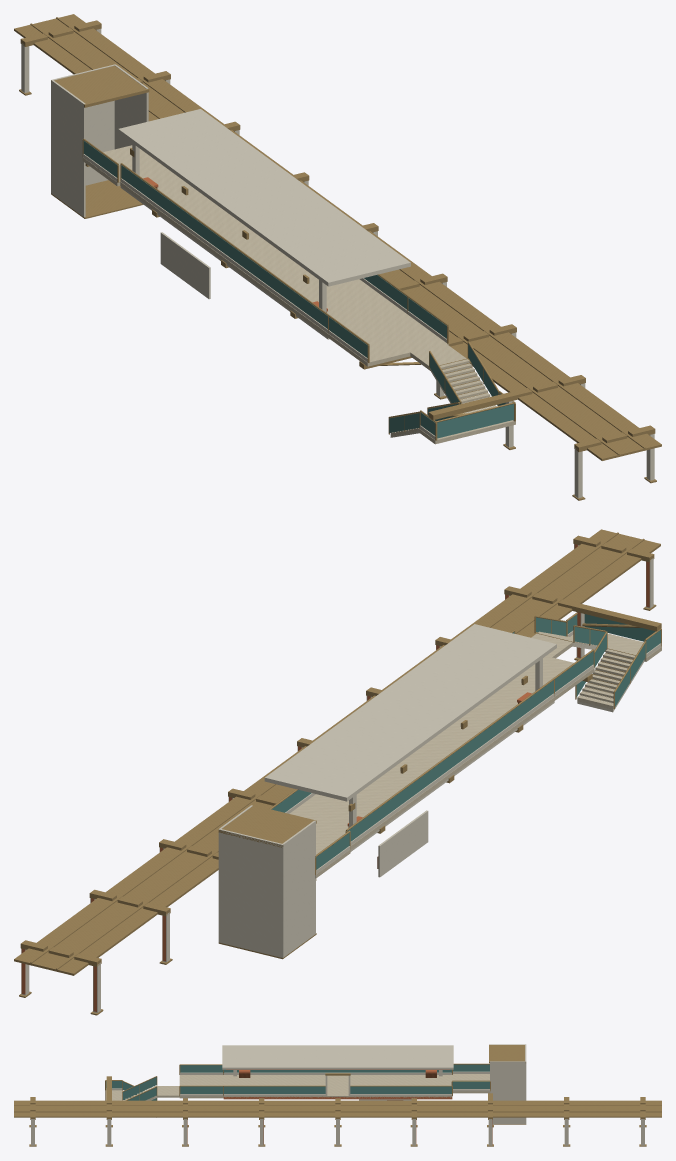
The model's file is AST-TRM-G4-003_aft_midship_source.glb.
3 renders of one model, top to bottom at view 1: azimuth 30°, elevation 25°; view 2: azimuth 150°, elevation 25°; view 3: azimuth 270°, elevation 25°, orthographic. The views are drawn at different scales.
Visible parts, largest first — view 1: Aftmid_Canopy_Profiled_Crown, Aftmid_Boarding_Island_24m, Aftmid_BoardingLift_HousingSide_-7.7, Aftmid_Emergency_TopApproach, Aftmid_Port_Edge_infill, Aftmid_BoardingLift_Header, Aftmid_Guideway_RibbedDeck_01, Aftmid_BoardingLift_Rear, Aftmid_Guideway_RibbedDeck_03, Aftmid_Guideway_RibbedDeck_00, Aftmid_Guideway_RibbedDeck_15, Aftmid_Guest_Waiting_Screen (+13 smaller); view 2: Aftmid_Canopy_Profiled_Crown, Aftmid_BoardingLift_Rear, Aftmid_Boarding_Island_24m, Aftmid_BoardingLift_HousingSide_-7.7, Aftmid_Port_Edge_infill, Aftmid_BoardingLift_Header, Aftmid_Guideway_RibbedDeck_01, Aftmid_Guideway_RibbedDeck_13, Aftmid_Guideway_RibbedDeck_15, Aftmid_Guideway_RibbedDeck_16, Aftmid_Guest_Waiting_Screen, Aftmid_Guideway_RibbedDeck_14 (+10 smaller); view 3: Aftmid_Canopy_Profiled_Crown, Aftmid_Boarding_Island_24m, Aftmid_BoardingLift_HousingSide_-3.5, Aftmid_Tram_NorthGuard_infill, Aftmid_Tram_SouthGuard_infill, Aftmid_Guideway_RibbedDeck_01, Aftmid_Guideway_RibbedDeck_03, Aftmid_Guideway_RibbedDeck_05, Aftmid_Guideway_RibbedDeck_07, Aftmid_Guideway_RibbedDeck_09, Aftmid_Guideway_RibbedDeck_11, Aftmid_Guideway_RibbedDeck_13 (+28 smaller).
Part boxes in pixels (x1,y1,x2,y2): Aftmid_Canopy_Profiled_Crown: [118, 109, 410, 286]; Aftmid_Boarding_Island_24m: [120, 170, 406, 337]; Aftmid_BoardingLift_HousingSide_-7.7: [51, 80, 85, 217]; Aftmid_Emergency_TopApproach: [328, 314, 448, 366]; Aftmid_Port_Edge_infill: [121, 165, 327, 328]; Aftmid_BoardingLift_Header: [51, 65, 149, 107]; Aftmid_Guideway_RibbedDeck_01: [533, 394, 626, 435]; Aftmid_BoardingLift_Rear: [51, 64, 115, 193]; Aftmid_Guideway_RibbedDeck_03: [465, 343, 557, 384]; Aftmid_Guideway_RibbedDeck_00: [567, 419, 661, 460]; Aftmid_Guideway_RibbedDeck_15: [48, 39, 142, 74]; Aftmid_Guest_Waiting_Screen: [160, 232, 210, 299]; Aftmid_Canopy_Profiled_Crown: [264, 624, 556, 801]; Aftmid_BoardingLift_Rear: [218, 828, 283, 957]; Aftmid_Boarding_Island_24m: [289, 685, 554, 849]; Aftmid_BoardingLift_HousingSide_-7.7: [282, 820, 315, 956]; Aftmid_Port_Edge_infill: [347, 680, 553, 841]; Aftmid_BoardingLift_Header: [218, 805, 316, 847]; Aftmid_Guideway_RibbedDeck_01: [532, 555, 626, 596]; Aftmid_Guideway_RibbedDeck_13: [118, 858, 211, 899]; Aftmid_Guideway_RibbedDeck_15: [49, 908, 142, 950]; Aftmid_Guideway_RibbedDeck_16: [14, 934, 108, 975]; Aftmid_Guest_Waiting_Screen: [378, 810, 428, 877]; Aftmid_Guideway_RibbedDeck_14: [83, 883, 177, 924]; Aftmid_Canopy_Profiled_Crown: [222, 1045, 453, 1069]; Aftmid_Boarding_Island_24m: [223, 1075, 452, 1098]; Aftmid_BoardingLift_HousingSide_-3.5: [490, 1061, 525, 1123]; Aftmid_Tram_NorthGuard_infill: [224, 1086, 325, 1093]; Aftmid_Tram_SouthGuard_infill: [350, 1086, 451, 1093]; Aftmid_Guideway_RibbedDeck_01: [52, 1100, 90, 1117]; Aftmid_Guideway_RibbedDeck_03: [128, 1100, 166, 1117]; Aftmid_Guideway_RibbedDeck_05: [204, 1100, 242, 1117]; Aftmid_Guideway_RibbedDeck_07: [280, 1100, 318, 1117]; Aftmid_Guideway_RibbedDeck_09: [357, 1100, 395, 1117]; Aftmid_Guideway_RibbedDeck_11: [433, 1100, 471, 1117]; Aftmid_Guideway_RibbedDeck_13: [509, 1100, 547, 1117].
Bounding box in the file's own units: 10.41 × 7.3 × 68.
6 materials, 4 textured.
